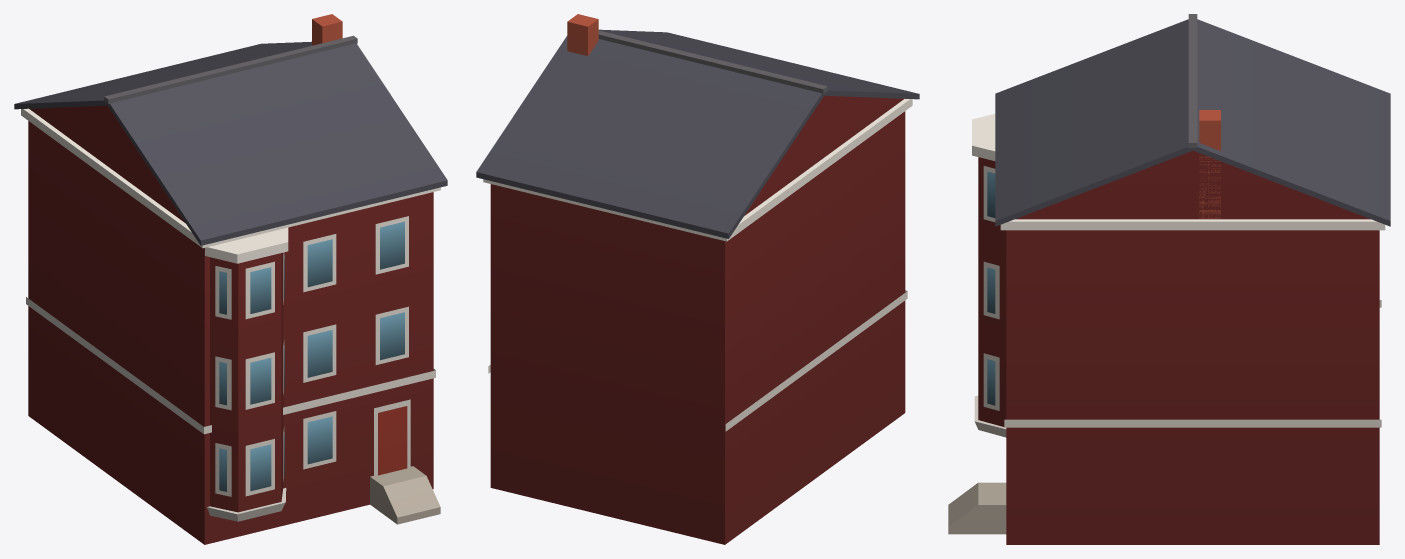
The model's file is lane_e12_far.glb.
3 renders of one model, left to right at view 1: azimuth 30°, elevation 25°; view 2: azimuth 150°, elevation 25°; view 3: azimuth 270°, elevation 25°, orthographic. The views are drawn at different scales.
Visible parts, largest first — view 1: lane_e12_far; view 2: lane_e12_far; view 3: lane_e12_far.
Boxes of the visible parts, bbox=[...] form: lane_e12_far: bbox=[14, 14, 447, 544]; lane_e12_far: bbox=[476, 14, 919, 544]; lane_e12_far: bbox=[948, 14, 1390, 544].
Bounding box in the file's own units: 9.8 × 15.05 × 14.21.
Materials: 1 (1 with a texture image).
